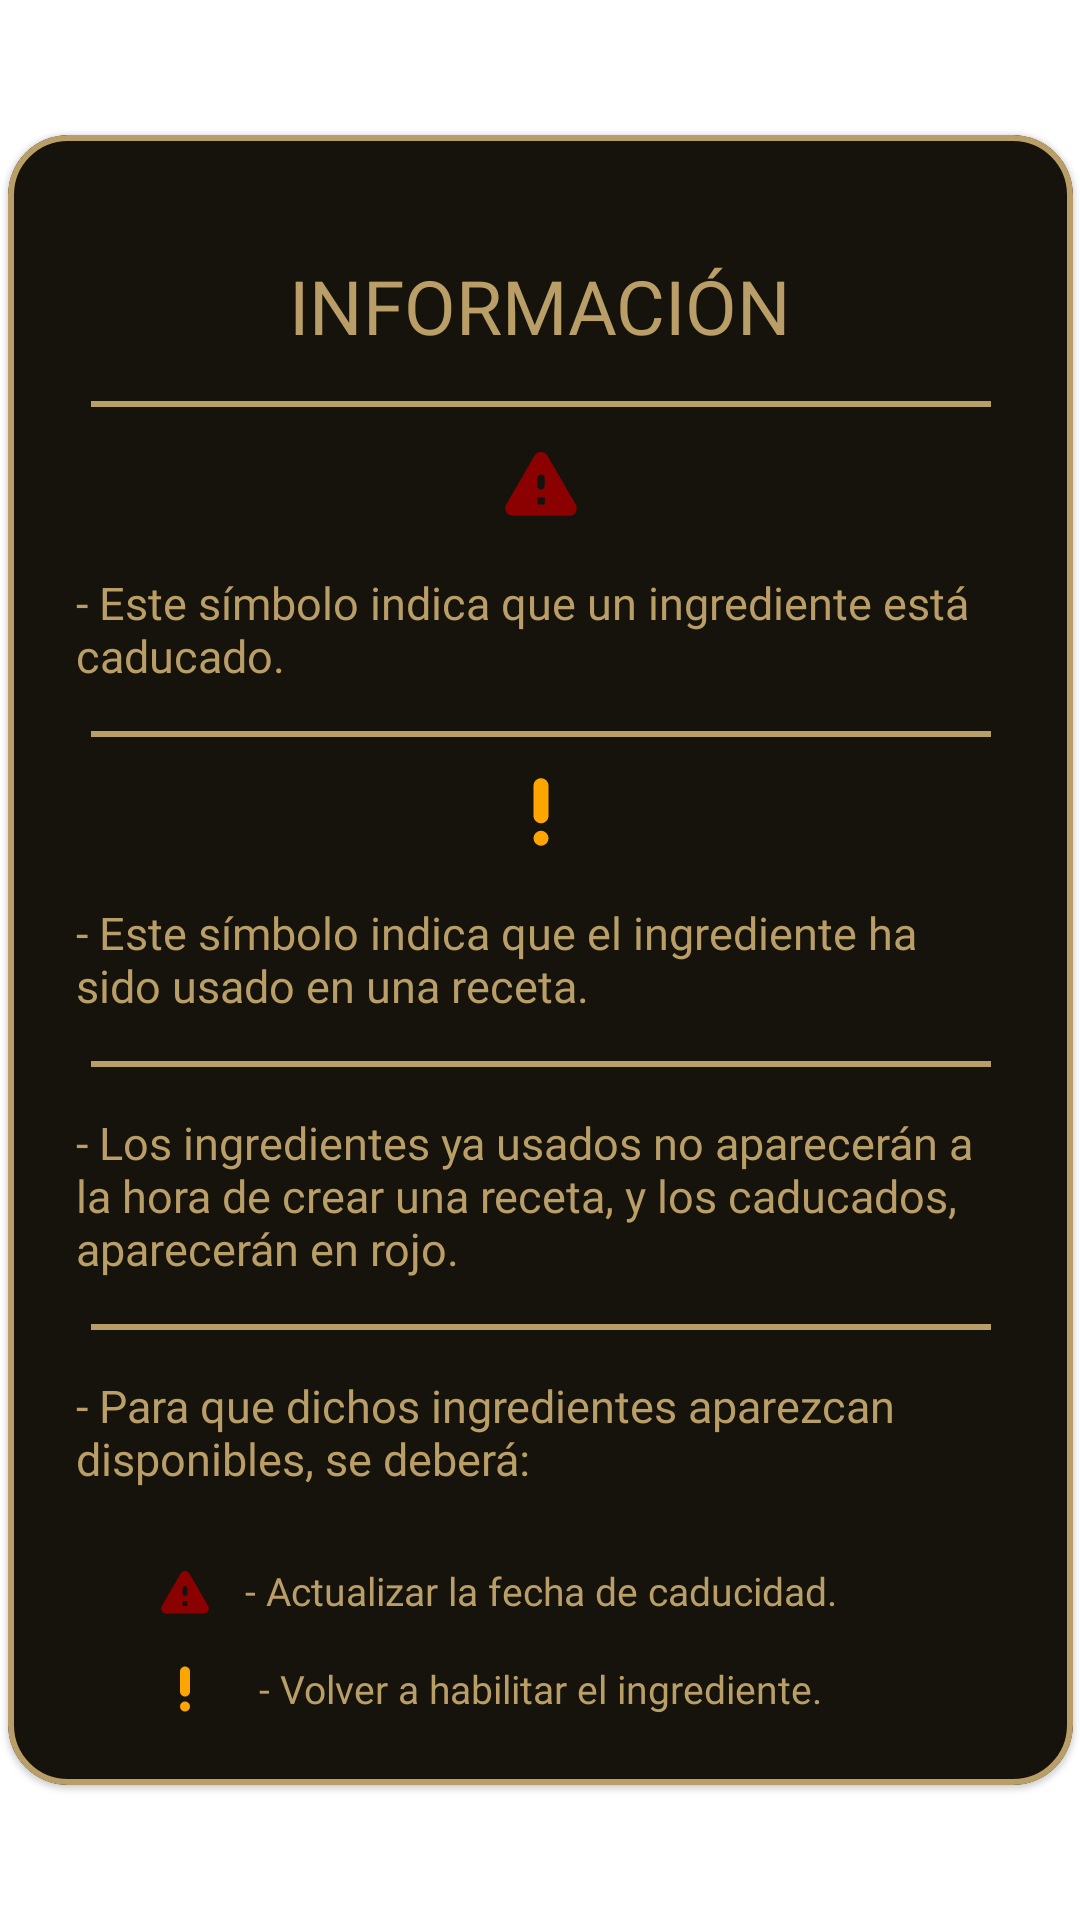

Screen size 1080x1920. Icon name, then its box in pixels as BBox(x1, y1, x2, y2):
alert: BBox(533, 778, 549, 846), BBox(180, 1666, 190, 1712)
warning: BBox(505, 452, 577, 516), BBox(161, 1571, 209, 1614)
